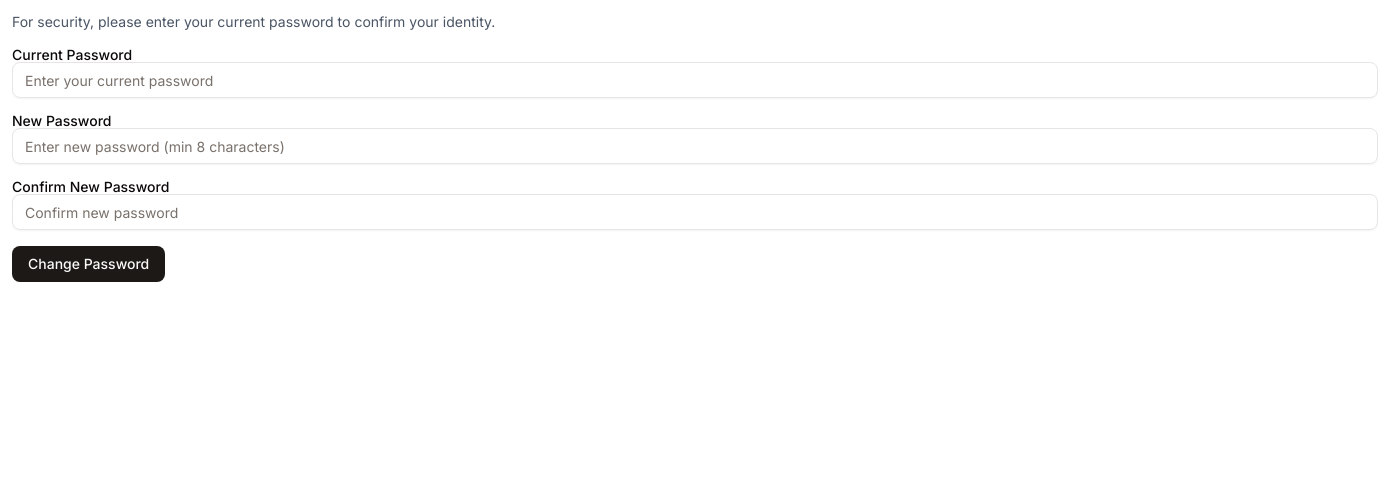
Test case: PasswordChangeForm › shows password requirements when new password is entered
The width and height of the screenshot is (1390, 485).
Step 1. Type "Test" into the password field labelled "New Password" → (695, 146), box x1=12 y1=128 x2=1378 y2=164
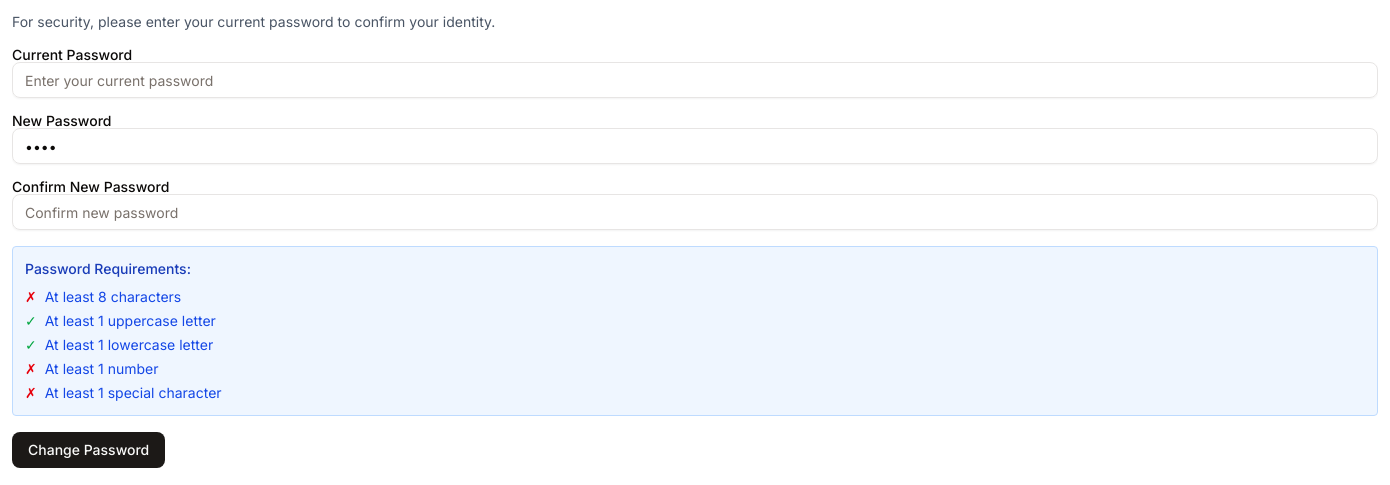
Expected: the list item "✗ At least 8 characters" is shown, x1=25 y1=288 x2=181 y2=305
Expected: the list item "✓ At least 1 uppercase letter" is shown, x1=25 y1=312 x2=216 y2=329
Expected: the list item "✓ At least 1 lowercase letter" is shown, x1=25 y1=336 x2=213 y2=353
